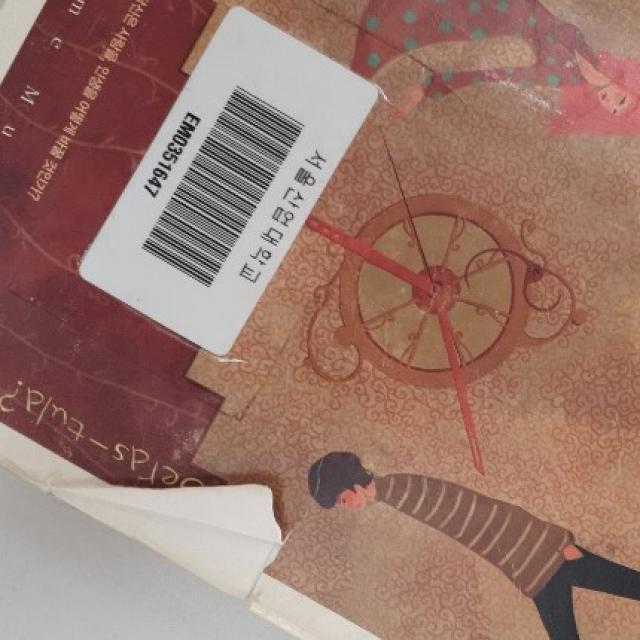Ripped: (4, 451, 329, 615)
